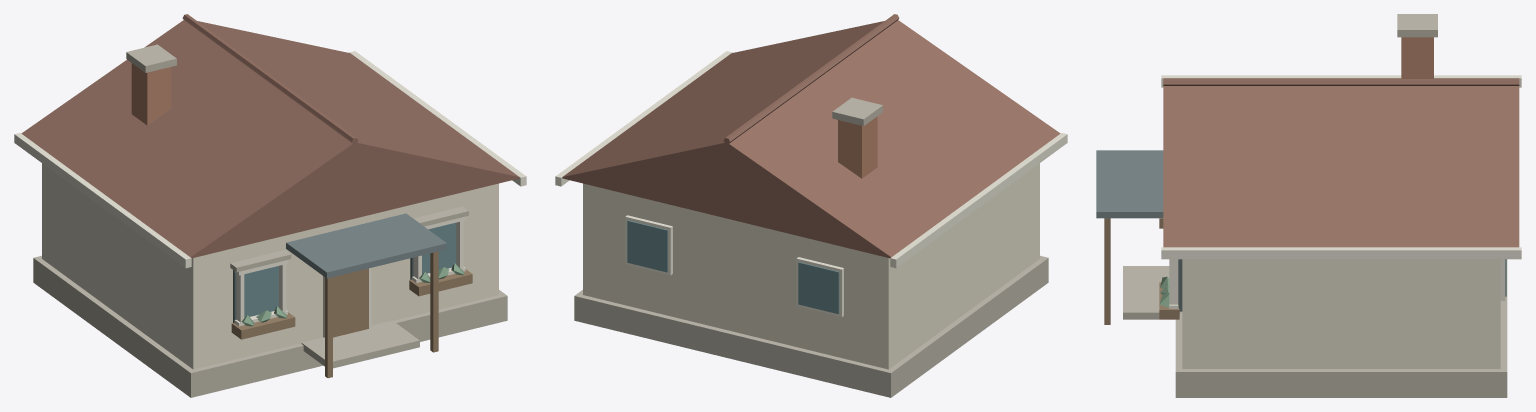
3 views of the same model, side by side, from view 1: azimuth 30°, elevation 25°; view 2: azimuth 150°, elevation 25°; view 3: azimuth 270°, elevation 25° (orthographic). The views are drawn at different scales.
Bounding box in the file's own units: 9.36 × 6.29 × 9.61.
